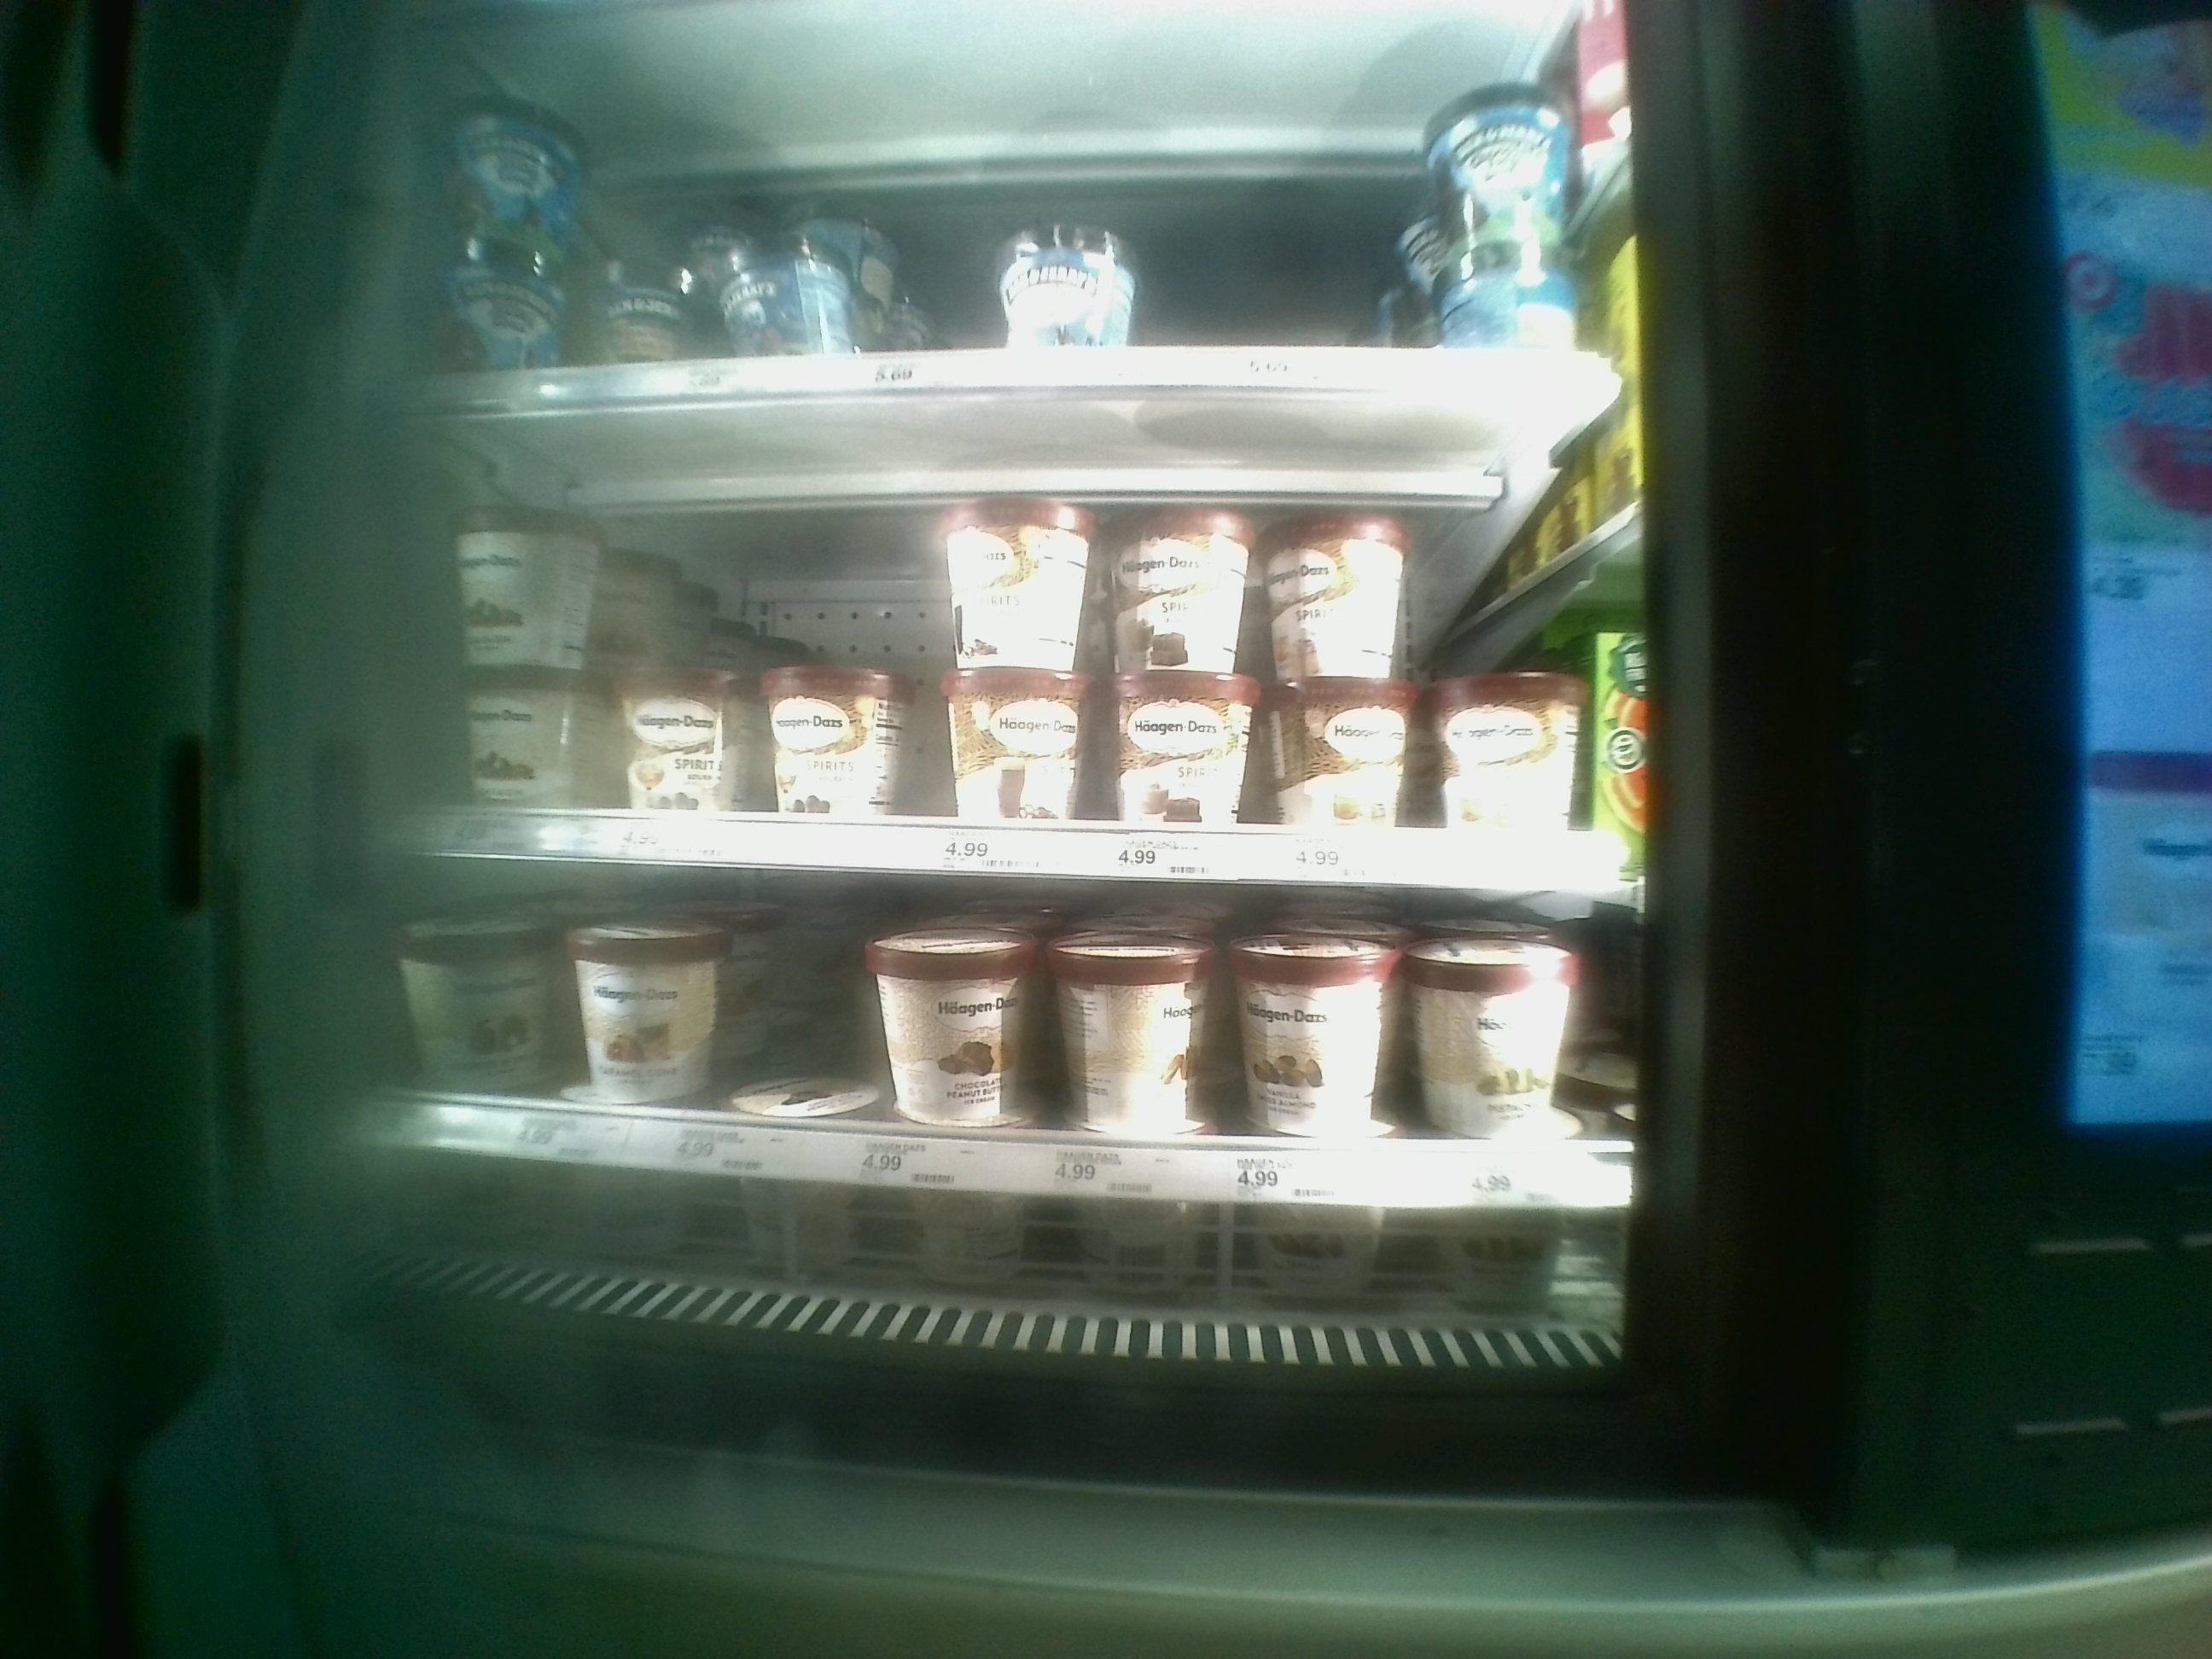shelf: (373, 430, 1646, 884), (390, 28, 1629, 411), (359, 878, 1639, 1211)
